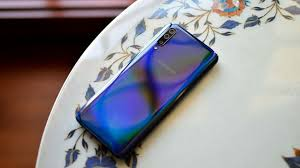samsung: (71, 21, 223, 157)
